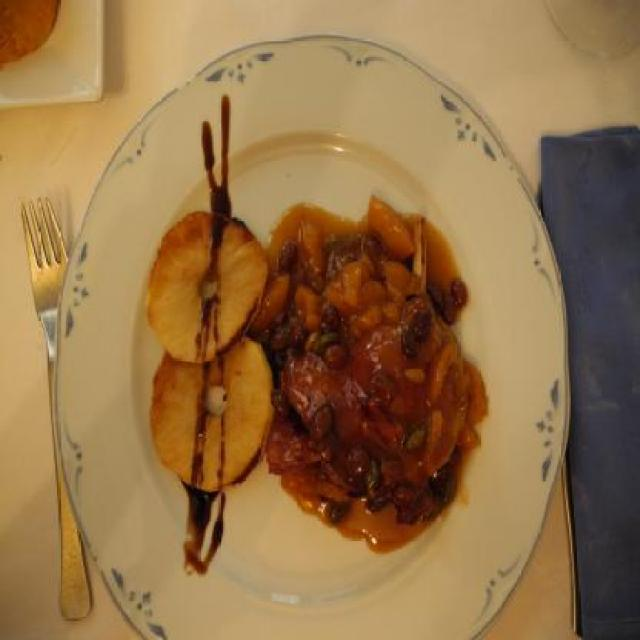Pancake: (0, 0, 58, 64)
